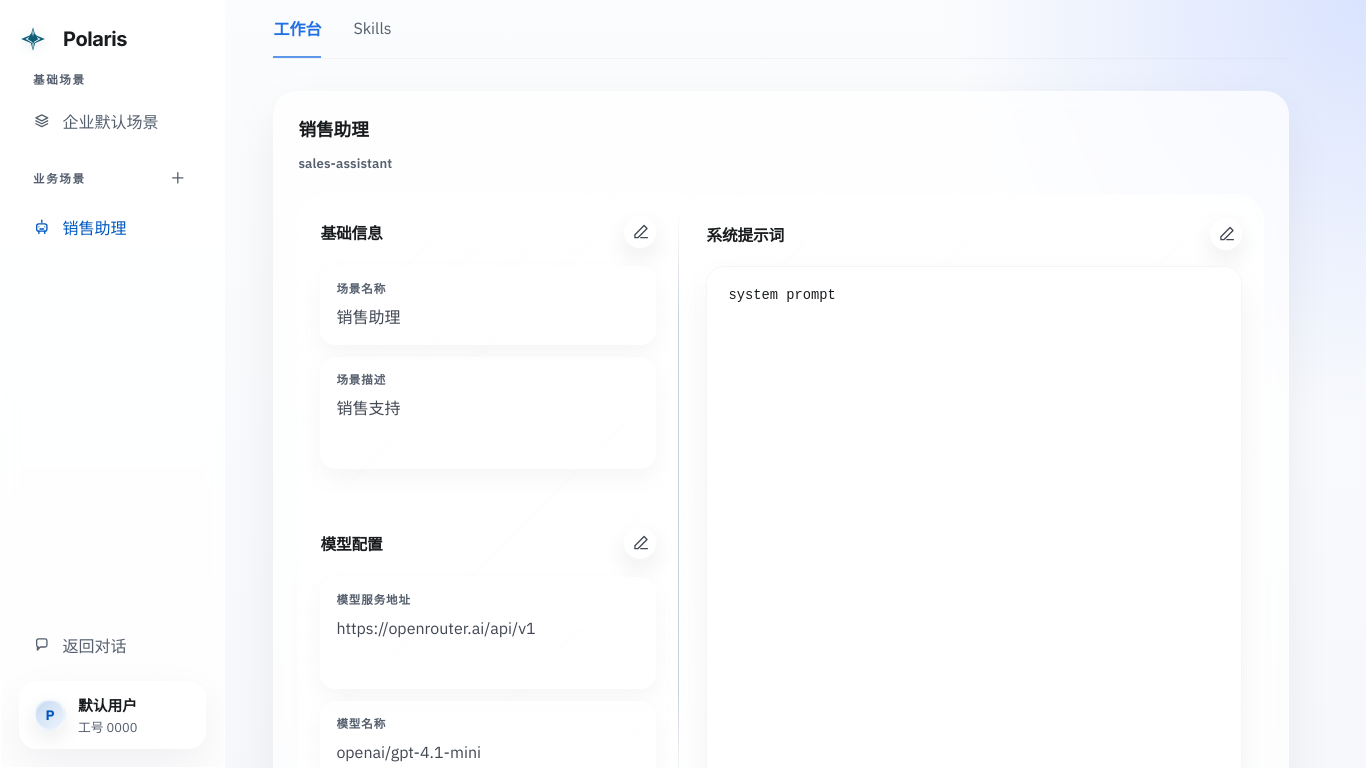
it: restores saved prompt content when undoing edits
Check: the text "system prompt" is shown, box [728,288,836,303]
Click the button named "编辑系统提示词" at x=1226, y=234, box [1210,218,1242,250]
(page scrolled)
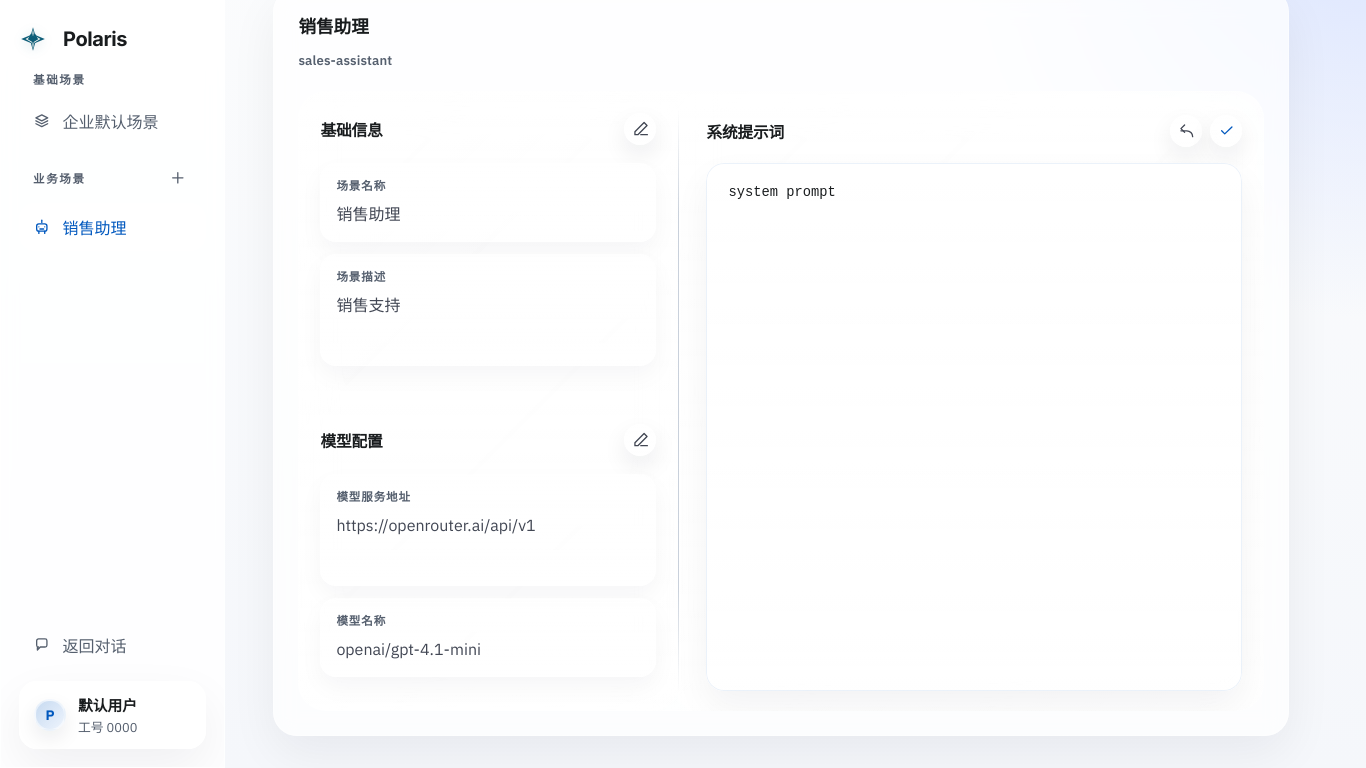
Check: the text "系统提示词" is shown, box [678,91,1264,711]
Replace the text in the text box named "系统提示词" with "draft prompt" at x=819, y=427, box [706,163,931,691]
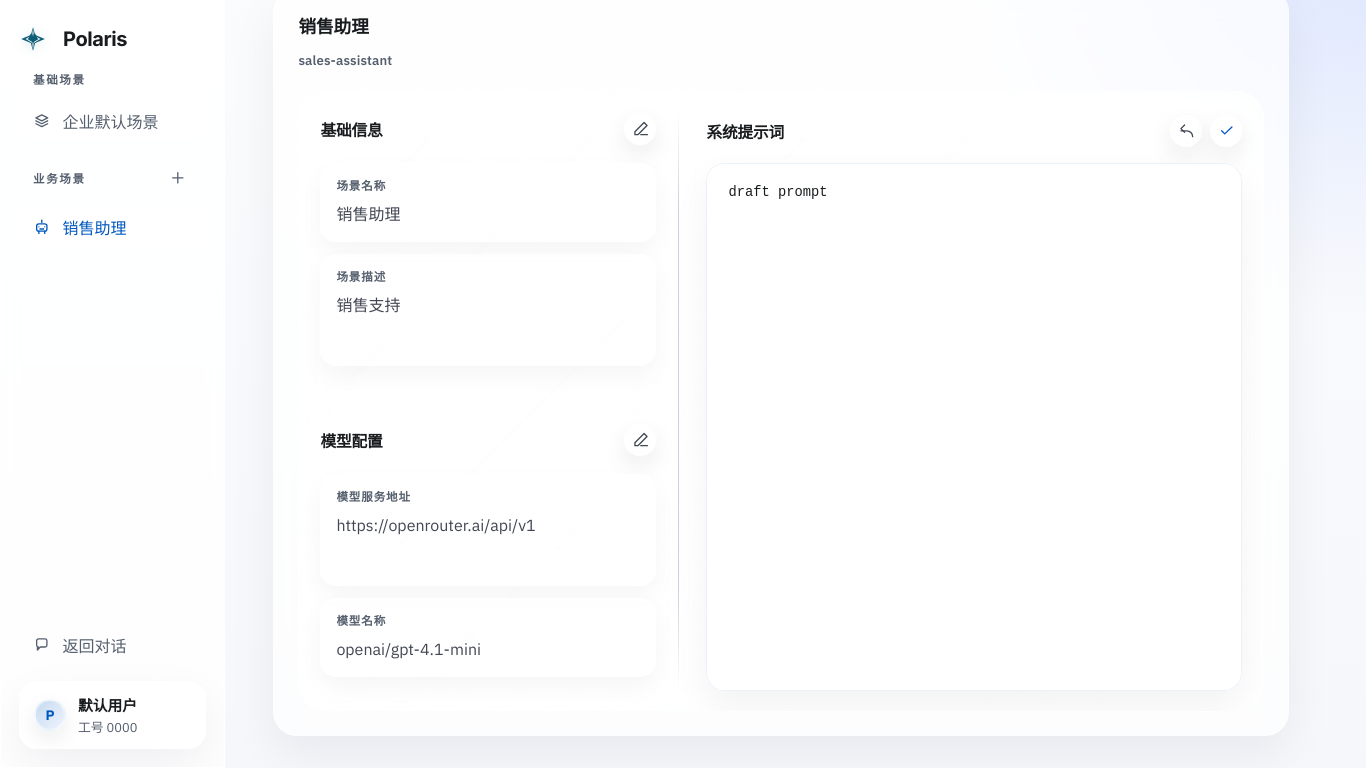
Click the button named "撤销系统提示词编辑" at x=1186, y=131, box [1170,115,1202,147]
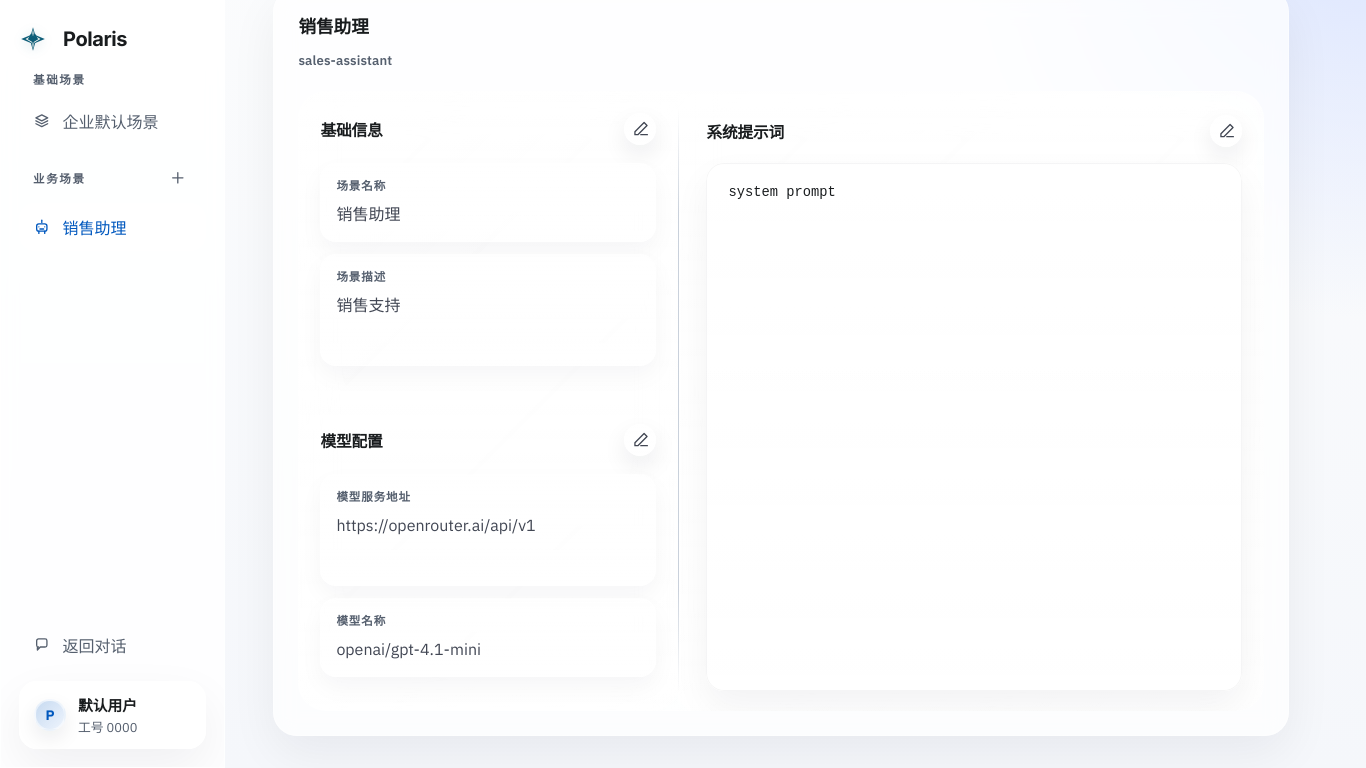
Check: the text "system prompt" is shown, box [728,185,836,200]
